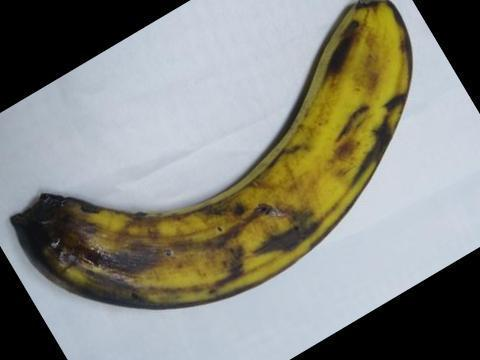overripe: (7, 0, 420, 339)
rotten: (5, 179, 171, 311)
